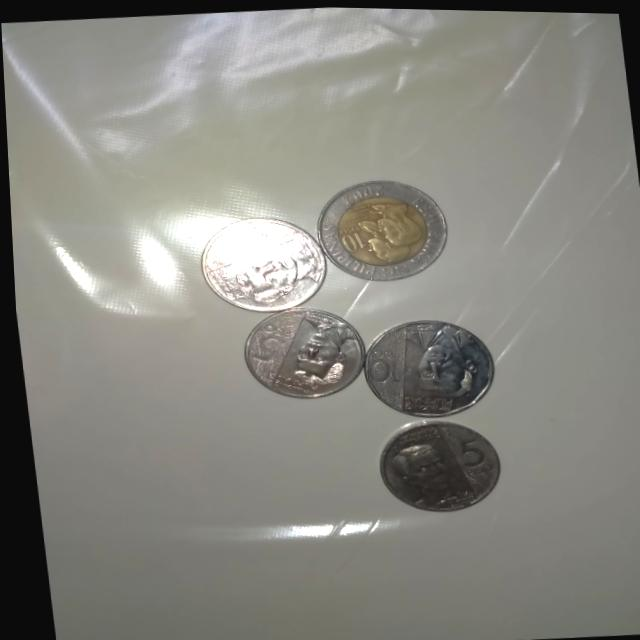10_New_Front: (357, 320, 476, 410)
10_Old_Front: (312, 173, 445, 283)
5_New_Front: (384, 419, 494, 503)
